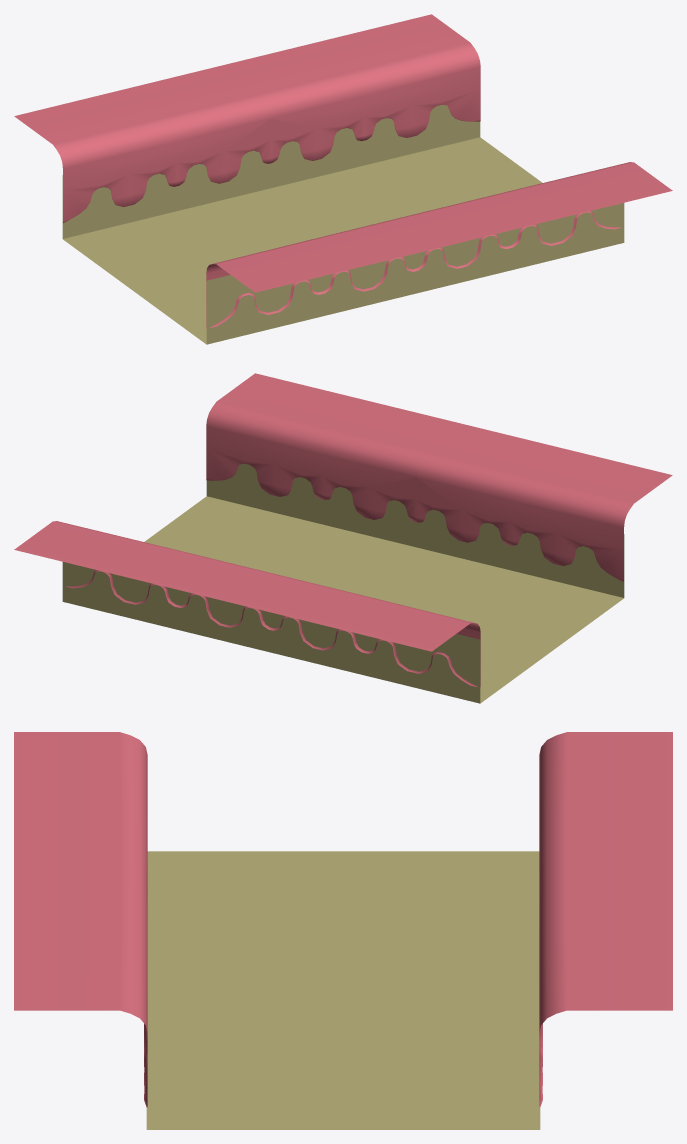
Rendered from SM_Tile_Straight.fbx.
3 views of the same model, one above another, from view 1: azimuth 30°, elevation 25°; view 2: azimuth 150°, elevation 25°; view 3: azimuth 270°, elevation 25° (orthographic). The views are drawn at different scales.
Visible parts, largest first — view 1: SM_Tile_Straight; view 2: SM_Tile_Straight; view 3: SM_Tile_Straight.
Boxes of the visible parts, x1,y1,x2,y2 form: SM_Tile_Straight: (14,14,672,344); SM_Tile_Straight: (14,373,672,703); SM_Tile_Straight: (14,732,672,1129).
Bounding box in the file's own units: 446 × 89.14 × 446.
